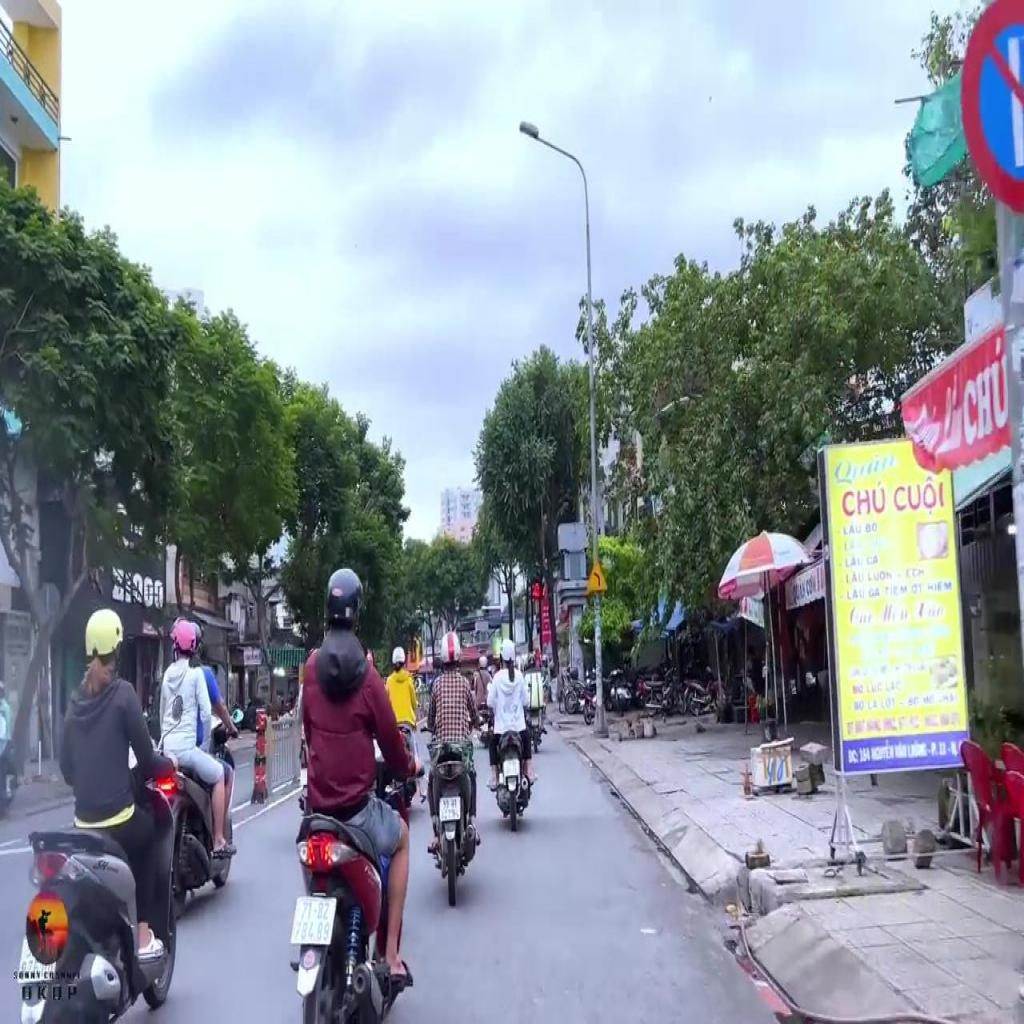cam_do_xe: (959, 0, 1023, 212)
cho_ngoat_nguy_hiem_ben_trai: (586, 554, 609, 592)
